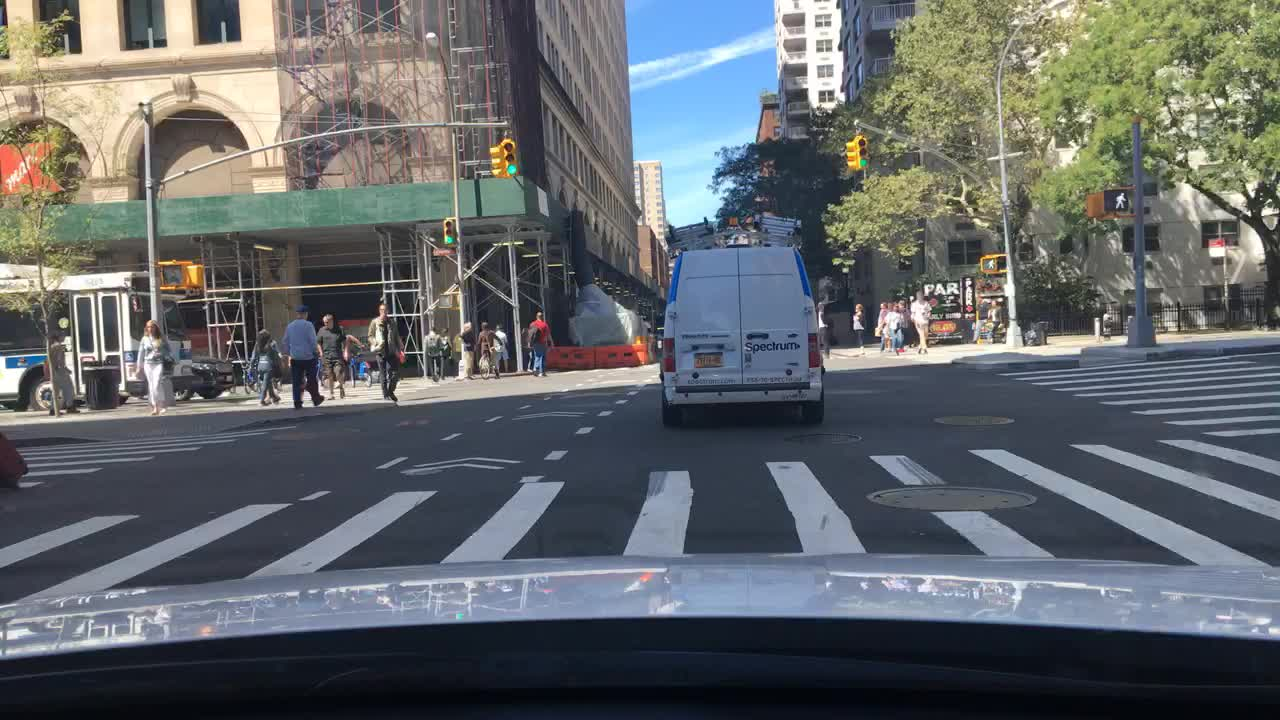bike: (368, 303, 403, 406), (338, 348, 370, 388), (476, 341, 502, 375), (241, 363, 262, 394)
bus: (0, 265, 195, 409)
car: (662, 247, 824, 428), (191, 353, 235, 401), (353, 354, 392, 382)
person: (283, 304, 320, 409), (134, 321, 172, 416), (46, 329, 81, 415), (316, 312, 343, 403), (250, 329, 281, 403), (529, 313, 554, 376), (908, 291, 931, 355), (423, 322, 440, 381), (817, 297, 831, 362), (478, 321, 496, 371), (459, 322, 474, 379), (852, 302, 868, 355), (985, 297, 1001, 345), (495, 323, 510, 373), (890, 300, 903, 355), (440, 325, 452, 381), (876, 300, 887, 353)
rider: (335, 325, 366, 363)
traffic light: (1085, 189, 1128, 218), (160, 262, 204, 290), (502, 139, 517, 177), (489, 144, 505, 177), (979, 255, 1008, 273), (845, 136, 858, 168), (857, 134, 869, 167), (443, 215, 455, 247)
traffic sign: (1208, 238, 1225, 258), (434, 246, 456, 253)
